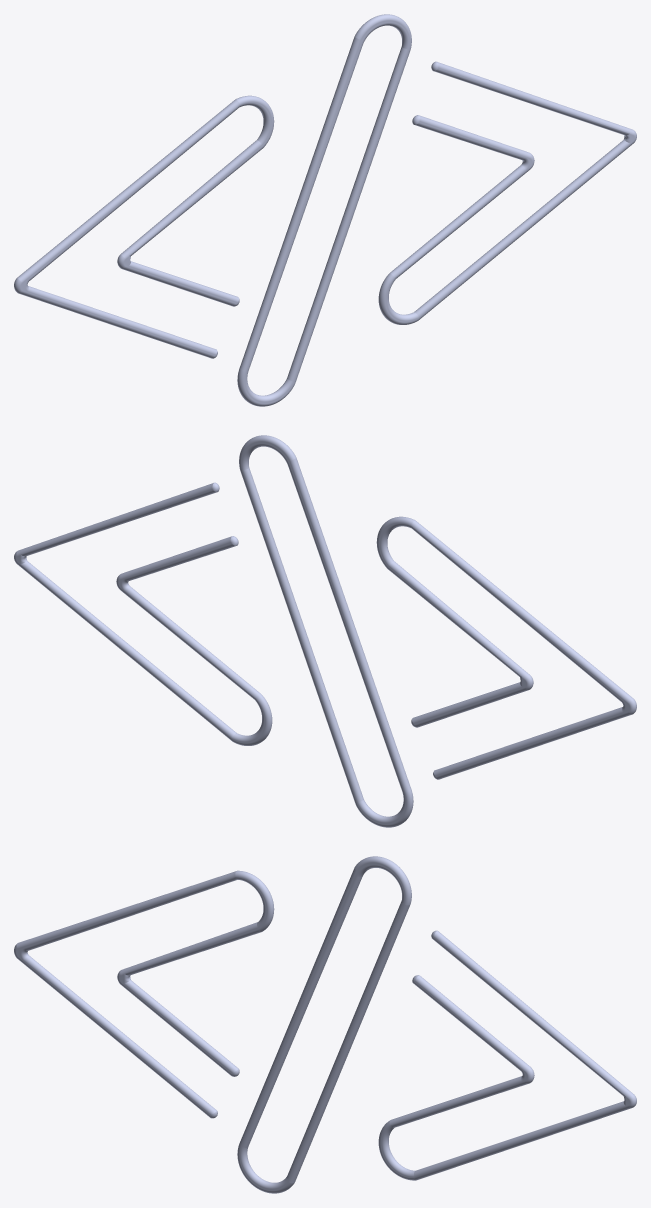
File: code-bracket-alt.fbx
3 views of the same model, one above another, from view 1: azimuth 30°, elevation 25°; view 2: azimuth 150°, elevation 25°; view 3: azimuth 330°, elevation 25° (orthographic).
Visible parts, largest first — view 1: Part1 (×3); view 2: Part1 (×3); view 3: Part1 (×3).
Boxes of the visible parts, <box> form: Part1 (×3): <box>14,14,636,406</box>; Part1 (×3): <box>14,435,636,827</box>; Part1 (×3): <box>14,856,636,1193</box>.
Size of the model in its own units: 234 by 131 by 3.
